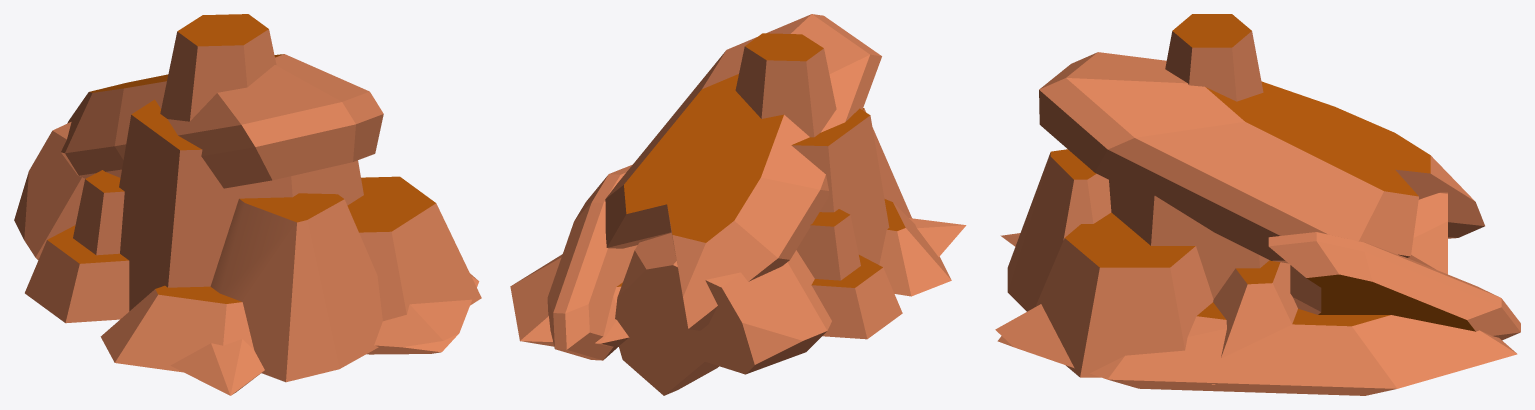
File: astroid05.glb
The picture shows the model from 3 angles, left to right: view 1: azimuth 30°, elevation 25°; view 2: azimuth 150°, elevation 25°; view 3: azimuth 270°, elevation 25°; orthographic projection. The views are drawn at different scales.
Parts seen in each view (by area): view 1: mergedBlocks(Clone); view 2: mergedBlocks(Clone); view 3: mergedBlocks(Clone).
Boxes of the visible parts, x1,y1,x2,y2 form: mergedBlocks(Clone): [14, 14, 481, 395]; mergedBlocks(Clone): [510, 14, 966, 395]; mergedBlocks(Clone): [995, 14, 1520, 395].
Bounding box in the file's own units: 3.71 × 3.15 × 4.68.
Materials: 1 (1 with a texture image).
